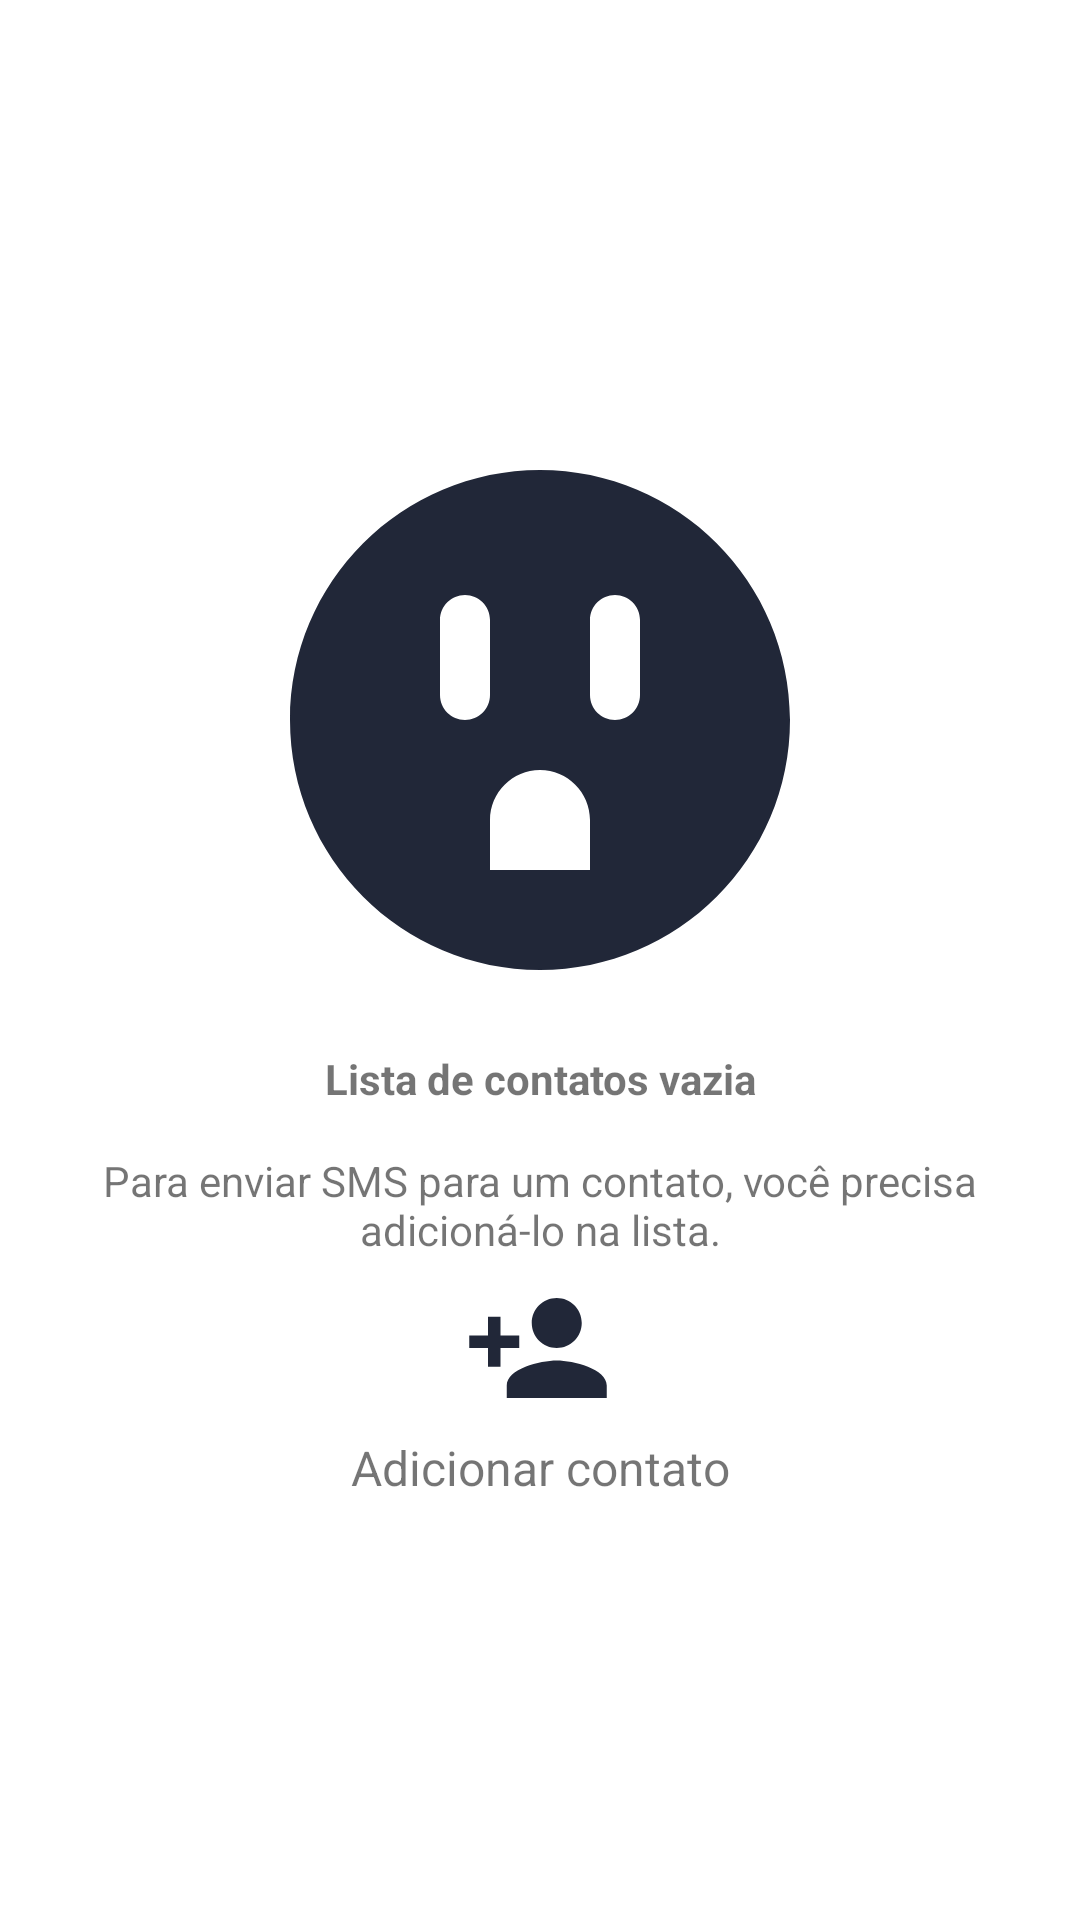

Named icons in this screenshot (1080px x 1920px) and their centers, (x,y):
person add: (538,1348)
